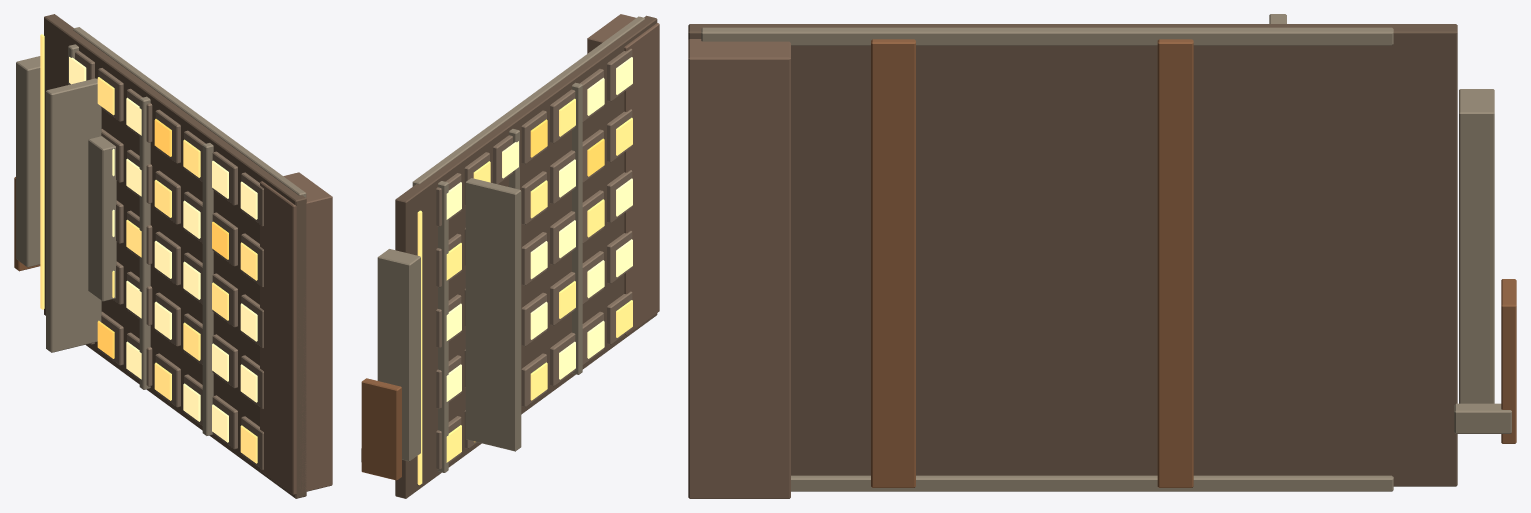
Rendered from facade_canyon_r.glb.
3 renders of one model, left to right at view 1: azimuth 30°, elevation 25°; view 2: azimuth 150°, elevation 25°; view 3: azimuth 270°, elevation 25°, orthographic. The views are drawn at different scales.
Parts seen in each view (by area): view 1: FacadeCanyon_R; view 2: FacadeCanyon_R; view 3: FacadeCanyon_R.
Boxes of the visible parts, x1,y1,x2,y2 form: FacadeCanyon_R: [14, 14, 332, 498]; FacadeCanyon_R: [361, 14, 659, 498]; FacadeCanyon_R: [688, 14, 1516, 498].
Bounding box in the file's own units: 1.25 × 3.96 × 6.46.
